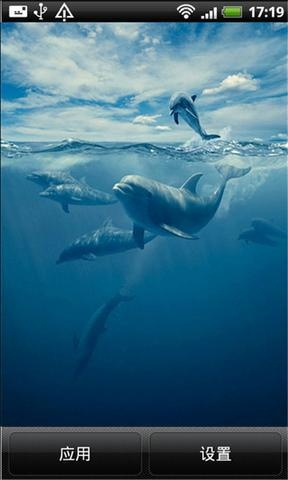fish: (114, 164, 262, 240), (71, 290, 137, 382), (58, 223, 161, 269), (168, 88, 223, 139), (40, 181, 126, 210), (25, 167, 80, 190)
